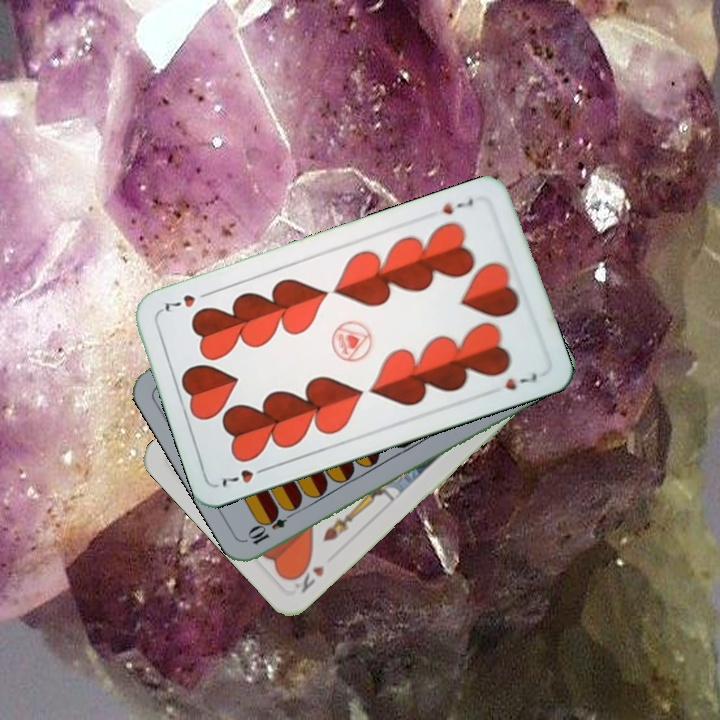E10: (244, 505, 299, 548)
H7: (215, 462, 273, 490), (438, 194, 476, 217)
HK: (285, 557, 327, 596)
